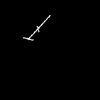double_crochet: (26, 16, 49, 39)
